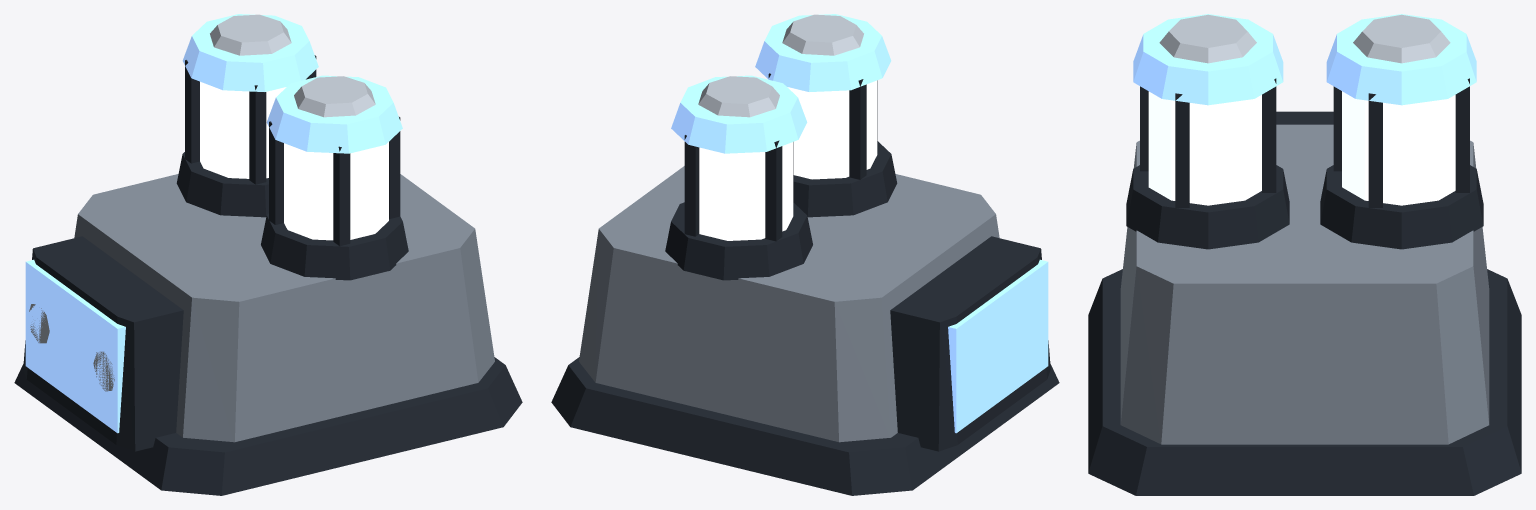
The model's file is fabrication_module.glb.
3 views of the same model, side by side, from view 1: azimuth 30°, elevation 25°; view 2: azimuth 150°, elevation 25°; view 3: azimuth 270°, elevation 25° (orthographic). The views are drawn at different scales.
Visible parts, largest first — view 1: Surf_armor, Surf_dark, Surf_TEAM, Surf_cyan, Surf_light; view 2: Surf_armor, Surf_dark, Surf_TEAM, Surf_cyan, Surf_light; view 3: Surf_armor, Surf_dark, Surf_cyan, Surf_TEAM, Surf_light.
Boxes of the visible parts, x1=… form: Surf_armor: x1=74, y1=174, x2=494, y2=442; Surf_dark: x1=14, y1=55, x2=522, y2=495; Surf_TEAM: x1=25, y1=14, x2=402, y2=433; Surf_cyan: x1=200, y1=81, x2=388, y2=240; Surf_light: x1=29, y1=14, x2=375, y2=391; Surf_armor: x1=579, y1=166, x2=999, y2=442; Surf_dark: x1=551, y1=73, x2=1059, y2=495; Surf_TEAM: x1=671, y1=14, x2=1048, y2=433; Surf_cyan: x1=699, y1=80, x2=877, y2=240; Surf_light: x1=698, y1=14, x2=863, y2=117; Surf_armor: x1=1120, y1=124, x2=1489, y2=444; Surf_dark: x1=1088, y1=78, x2=1521, y2=495; Surf_cyan: x1=1148, y1=91, x2=1455, y2=205; Surf_TEAM: x1=1133, y1=14, x2=1476, y2=105; Surf_light: x1=1159, y1=14, x2=1450, y2=63.
Size of the model in its own units: 2.8 by 2.32 by 2.42.
